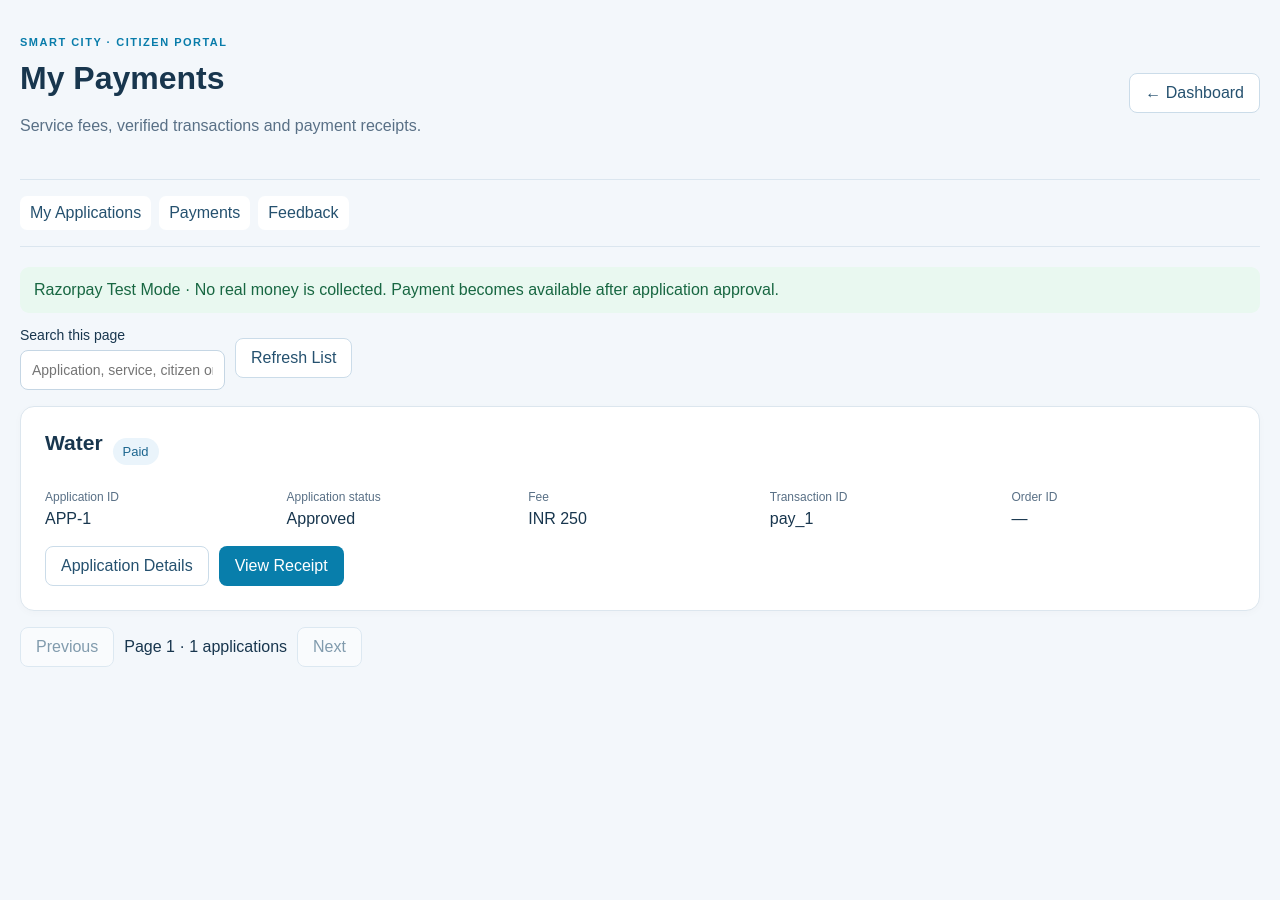
Test: paid transaction has a printable test receipt and no payment button
Click the button "View Receipt". click: (281, 566)
box: [219,546,344,586]
(page scrolled)
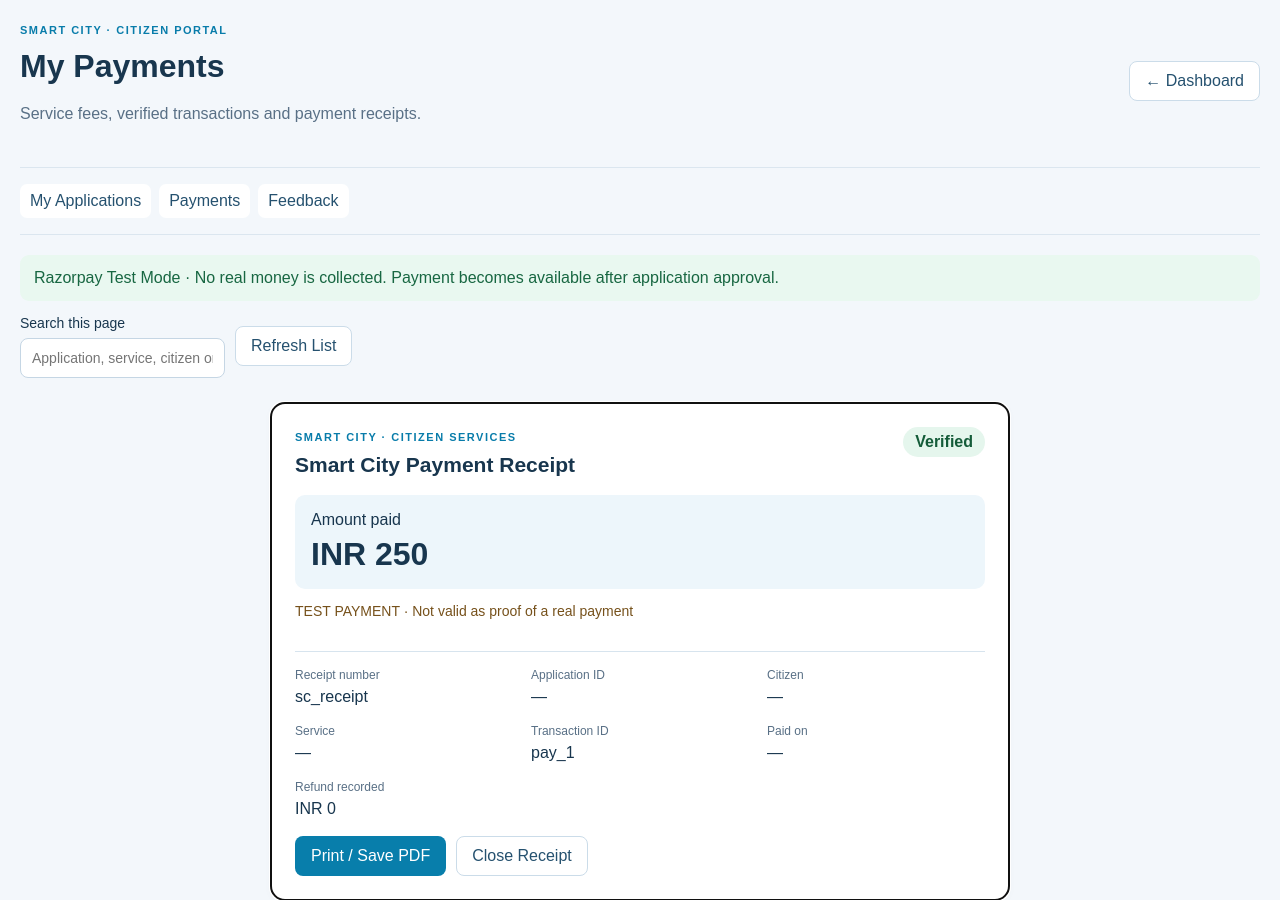
Check: the text "TEST PAYMENT · Not valid as proof of a real payment" is shown, box [295,603,633,619]
Check: the button "Print / Save PDF" is shown, box [295,836,446,876]
